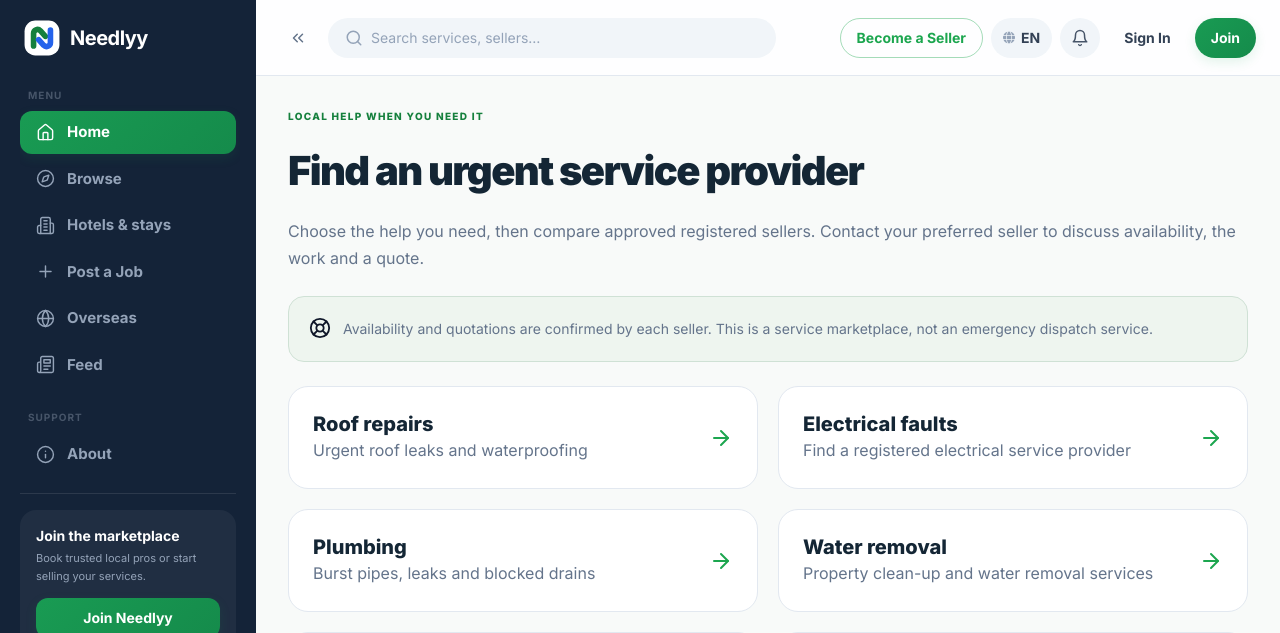
Test: urgent-service discovery › selects matching registered sellers without showing fixed prices
This screenshot has width=1280, height=633.
Click the button "Plumbing Burst pipes, leaks and blocked drains" at [523, 561], box [288,509,758,612]
(page scrolled)
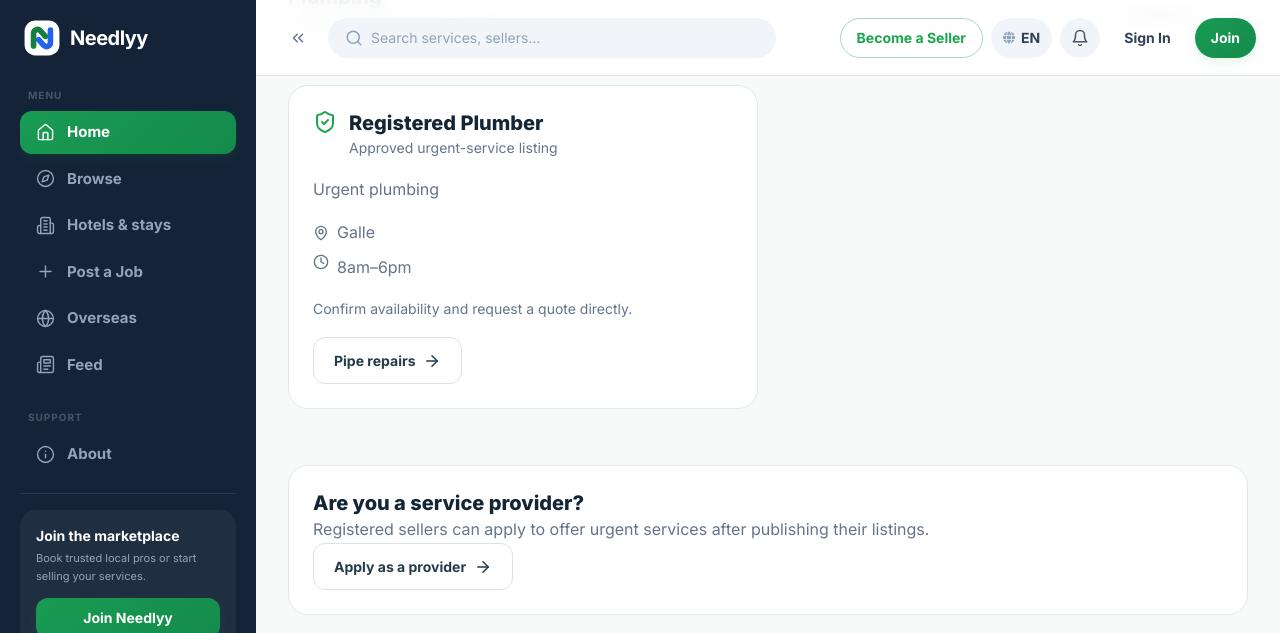
Result: the heading "Registered Plumber" is shown at [349,110,558,136]
